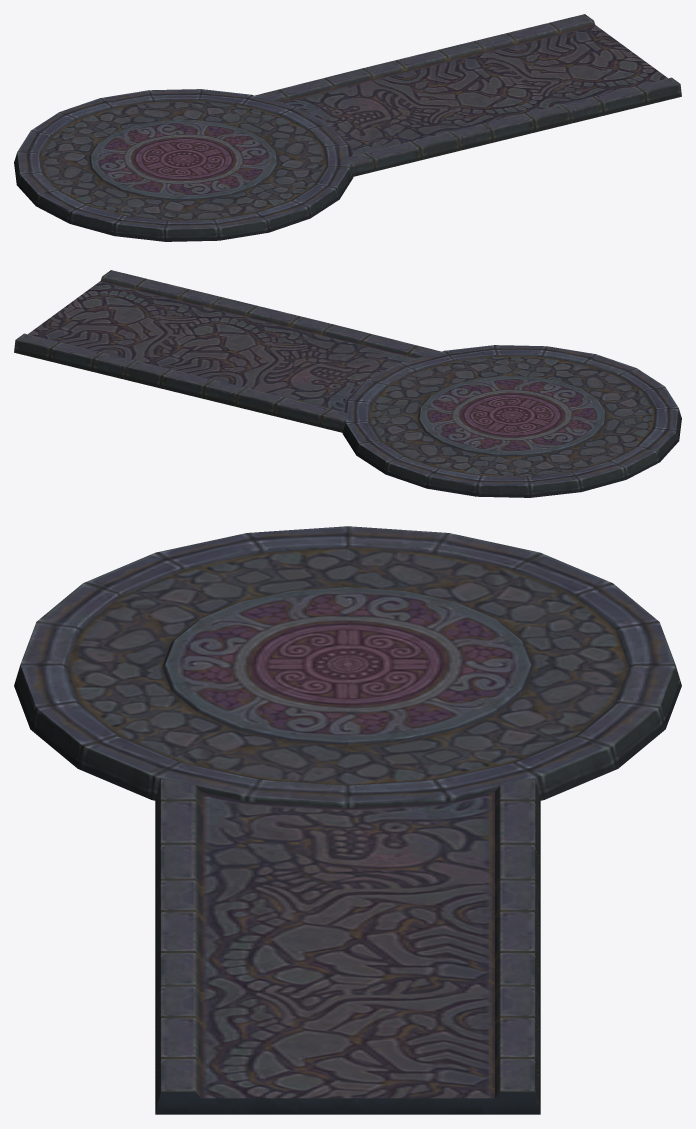
Rendered from pve_ljjl03.FBX.
3 views of the same model, one above another, from view 1: azimuth 30°, elevation 25°; view 2: azimuth 150°, elevation 25°; view 3: azimuth 270°, elevation 25° (orthographic). The views are drawn at different scales.
Visible parts, largest first — view 1: pve_ljjl03; view 2: pve_ljjl03; view 3: pve_ljjl03.
Boxes of the visible parts, box(x1,y1,x2,y2) form: pve_ljjl03: box(14, 14, 681, 241); pve_ljjl03: box(14, 270, 681, 497); pve_ljjl03: box(14, 526, 681, 1114).
Bounding box in the file's own units: 4526 × 84.56 × 2241.
Materials: 1 (1 with a texture image).
